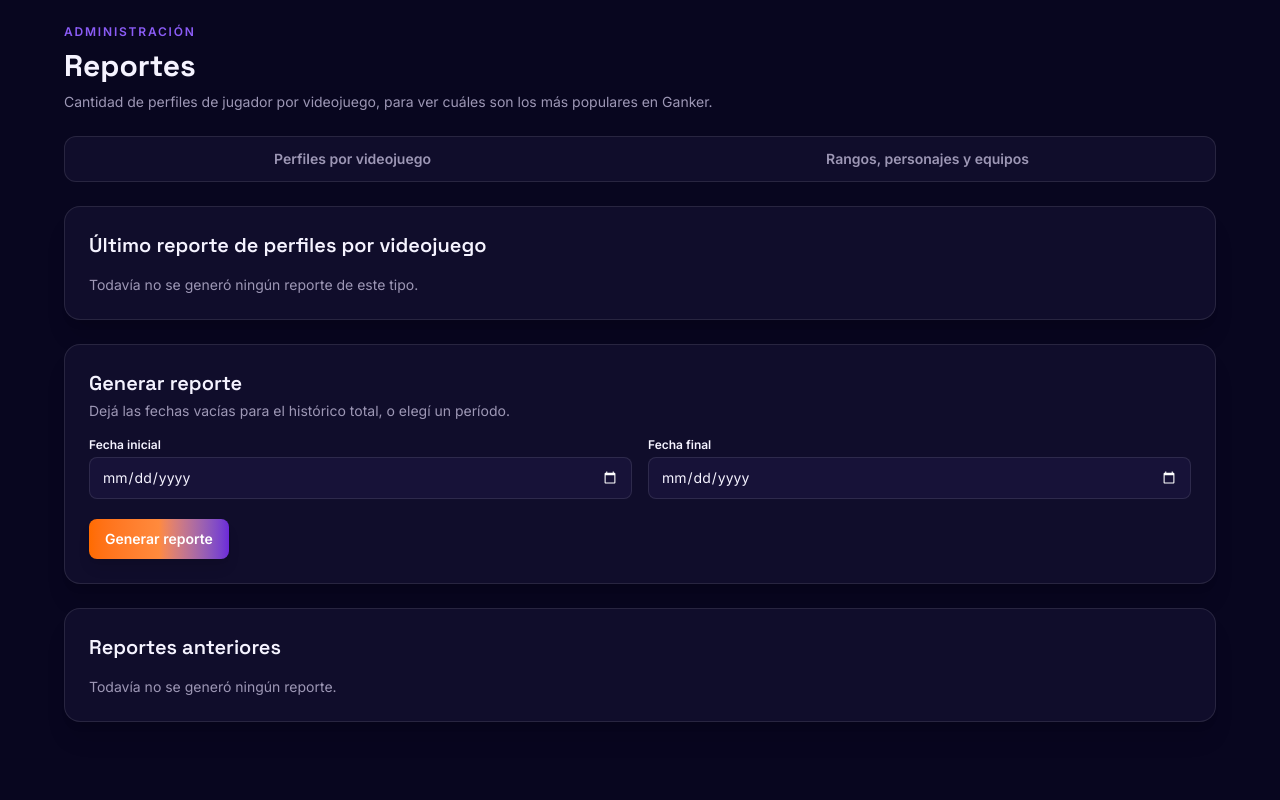
Test: ReportesPage - US 37 Reporte de jugadores por videojuego › con un reporte previo muestra la variación y la tendencia
The width and height of the screenshot is (1280, 800).
Click the button "Generar reporte" at (159, 539), box [89,519,229,559]
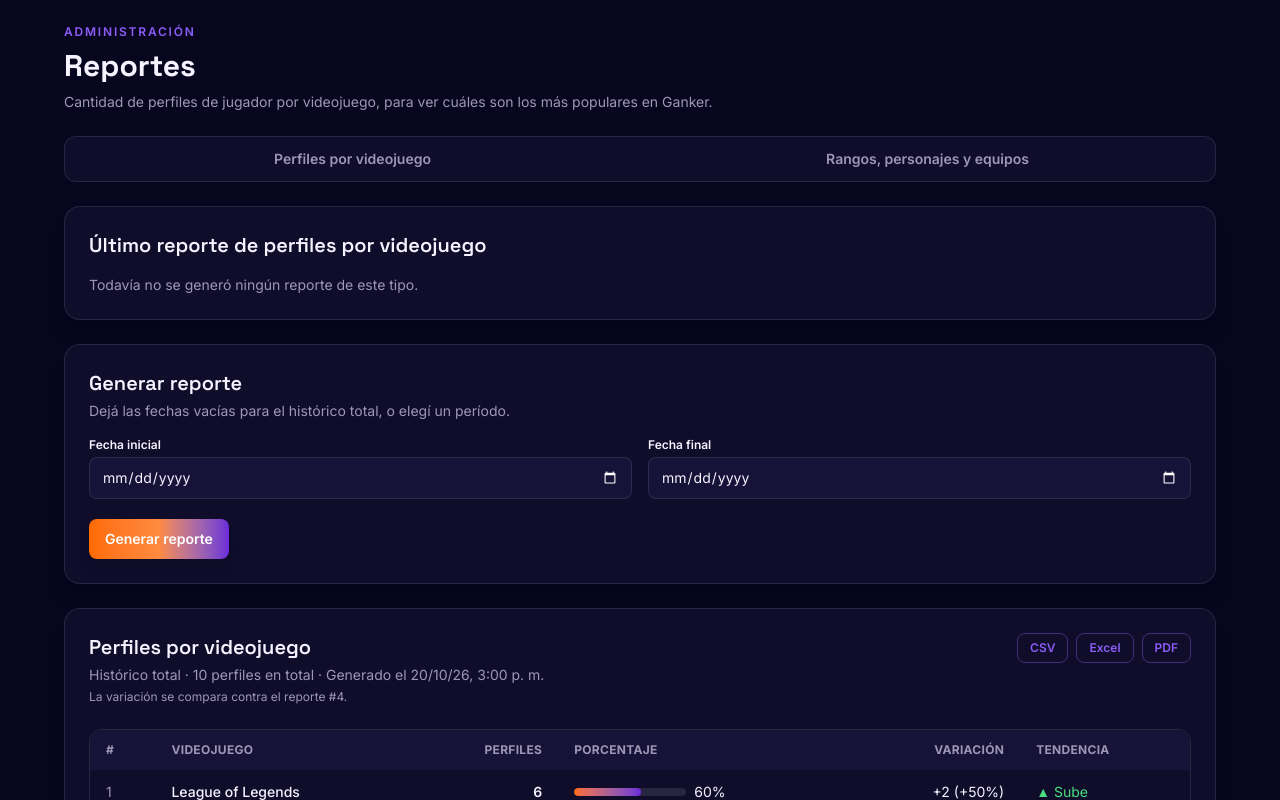
Now the column heading "Variación" is shown, box [853,730,1020,770]
Now the text "Sube" is shown, box [1054,783,1088,799]
Now the text "La variación se compara contra el reporte #4." is shown, box [89,689,347,704]
